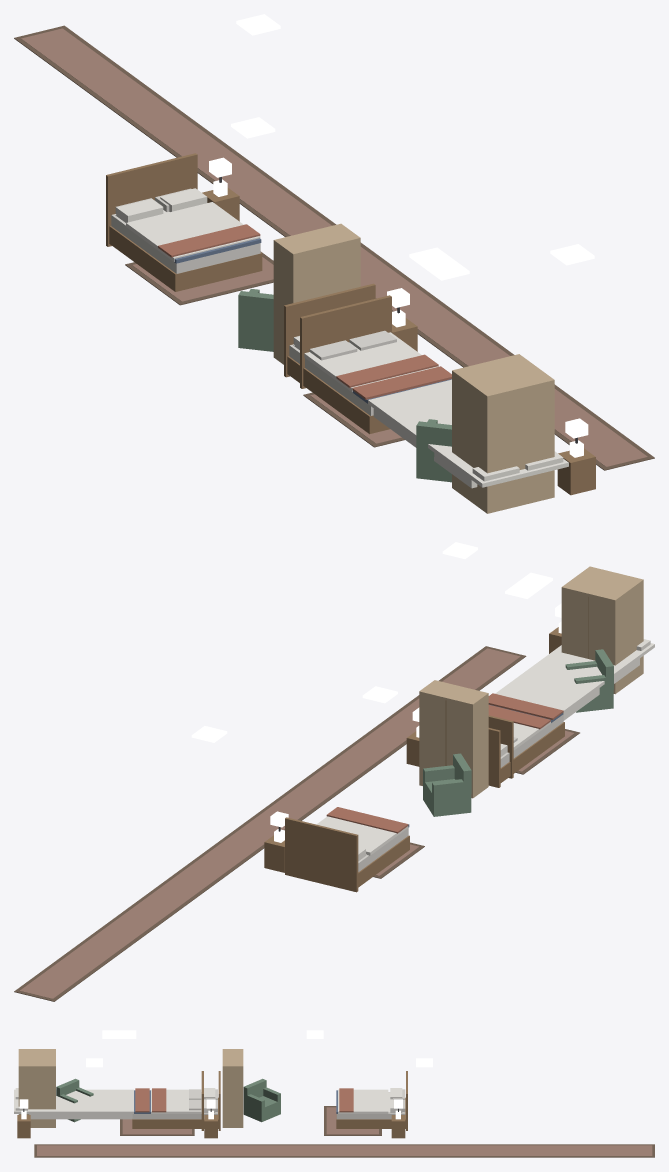
The model's file is fine-s2.glb.
3 renders of one model, top to bottom at view 1: azimuth 30°, elevation 25°; view 2: azimuth 150°, elevation 25°; view 3: azimuth 270°, elevation 25°, orthographic. The views are drawn at different scales.
Visible parts, largest first — view 1: soft-s2, dresser.005, bed-frame.003, dresser.003, bed-frame.005, bed-frame.004, dresser.004, lounge-chair.002, lounge-chair.003, nightstand.005, nightstand.003; view 2: soft-s2, dresser.003, bed-frame.003, dresser.004, lounge-chair.002, dresser.005, bed-frame.005, bed-frame.004, lounge-chair.003, nightstand.003; view 3: soft-s2, dresser.003, dresser.004, lounge-chair.002, bed-frame.005, bed-frame.003, bed-frame.004, dresser.005, lounge-chair.003, nightstand.003, nightstand.004, nightstand.005.
Boxes of the visible parts, left/top/right/bottom form: soft-s2: left=14, top=25, right=654, bottom=488; dresser.005: left=468, top=368, right=554, bottom=513; bed-frame.003: left=106, top=153, right=262, bottom=291; dresser.003: left=273, top=223, right=360, bottom=364; bed-frame.005: left=300, top=295, right=451, bottom=434; bed-frame.004: left=284, top=283, right=375, bottom=422; dresser.004: left=452, top=354, right=538, bottom=501; lounge-chair.002: left=238, top=288, right=273, bottom=351; lounge-chair.003: left=416, top=419, right=451, bottom=482; nightstand.005: left=557, top=440, right=595, bottom=495; nightstand.003: left=202, top=179, right=239, bottom=221; soft-s2: left=14, top=603, right=654, bottom=1001; dresser.003: left=419, top=680, right=488, bottom=798; bed-frame.003: left=285, top=817, right=409, bottom=892; dresser.004: left=561, top=576, right=630, bottom=694; lounge-chair.002: left=423, top=753, right=471, bottom=816; dresser.005: left=575, top=566, right=643, bottom=682; bed-frame.005: left=488, top=704, right=564, bottom=778; bed-frame.004: left=488, top=720, right=552, bottom=787; lounge-chair.003: left=565, top=649, right=613, bottom=712; nightstand.003: left=264, top=829, right=284, bottom=872; soft-s2: left=14, top=1088, right=654, bottom=1157; dresser.003: left=222, top=1049, right=243, bottom=1127; dresser.004: left=35, top=1049, right=55, bottom=1127; lounge-chair.002: left=243, top=1078, right=280, bottom=1122; bed-frame.005: left=132, top=1071, right=203, bottom=1130; bed-frame.003: left=336, top=1071, right=407, bottom=1130; bed-frame.004: left=149, top=1071, right=220, bottom=1130; dresser.005: left=18, top=1049, right=35, bottom=1127; lounge-chair.003: left=56, top=1078, right=93, bottom=1122; nightstand.003: left=391, top=1110, right=405, bottom=1138; nightstand.004: left=204, top=1110, right=217, bottom=1138; nightstand.005: left=17, top=1110, right=30, bottom=1138.
Size of the model in its own units: 3.55 by 2.89 by 18.81.
